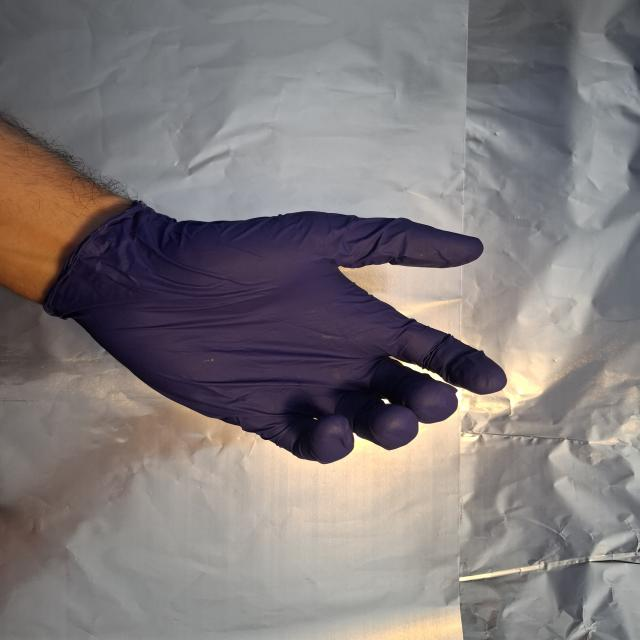glove_on: (46, 197, 512, 469)
